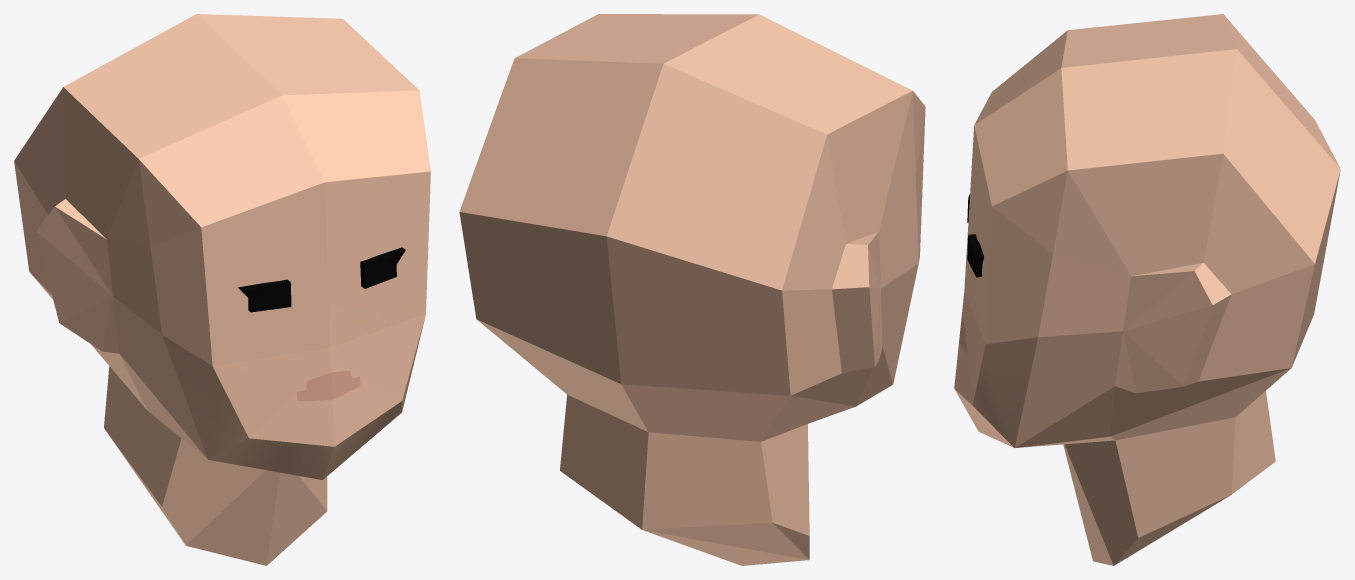
File: Chr_Head_Female_15_Static.fbx
3 renders of one model, left to right at view 1: azimuth 30°, elevation 25°; view 2: azimuth 150°, elevation 25°; view 3: azimuth 270°, elevation 25°, orthographic. The views are drawn at different scales.
Visible parts, largest first — view 1: Chr_Head_Female_15_Static; view 2: Chr_Head_Female_15_Static; view 3: Chr_Head_Female_15_Static.
Part boxes in pixels (x1=…): Chr_Head_Female_15_Static: x1=14, y1=14, x2=430, y2=565; Chr_Head_Female_15_Static: x1=459, y1=14, x2=925, y2=565; Chr_Head_Female_15_Static: x1=954, y1=14, x2=1340, y2=565.
Bounding box in the file's own units: 0.2661 × 0.3693 × 0.2526.
